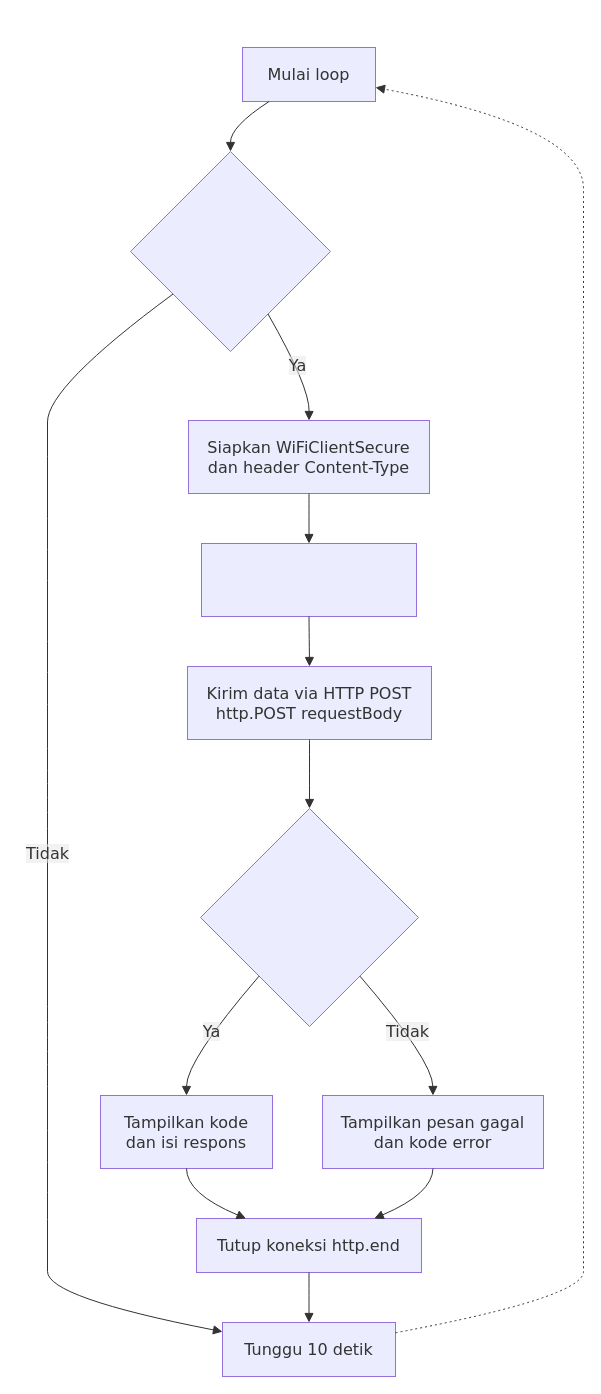
The diagram is 601 pixels wide and 1394 high, and some of its shapes have lost their labels. The box of each missing label's shape, as (x1, y1, x2, y2) in pixels:
Buat data JSON suhu dan kelembaban: (200, 542, 416, 616)
Kode respons > 0?: (200, 808, 418, 1026)
WiFi terhubung?: (130, 150, 330, 352)
